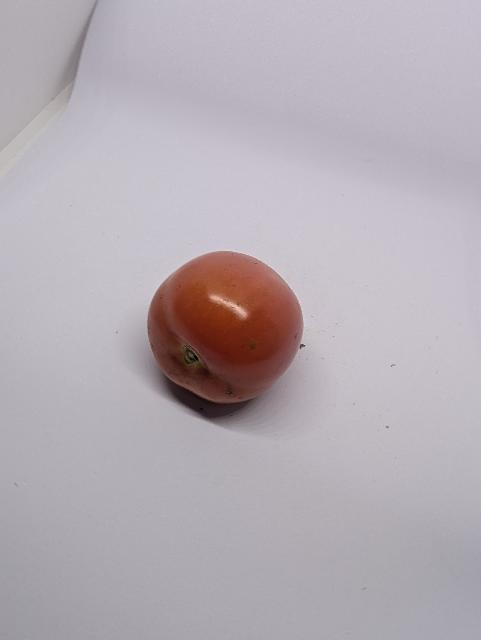red: (141, 247, 313, 425)
